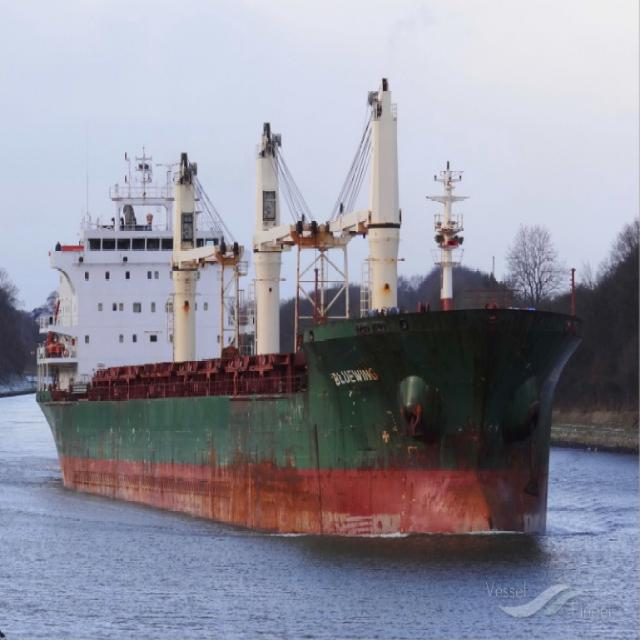OCR: (316, 358, 386, 395)
